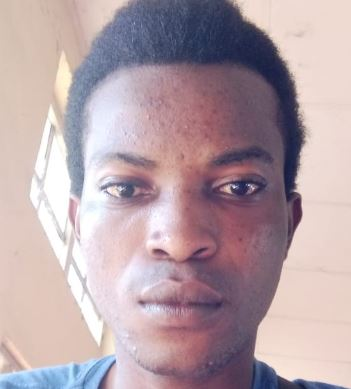without_facemask: (97, 234, 266, 363)
